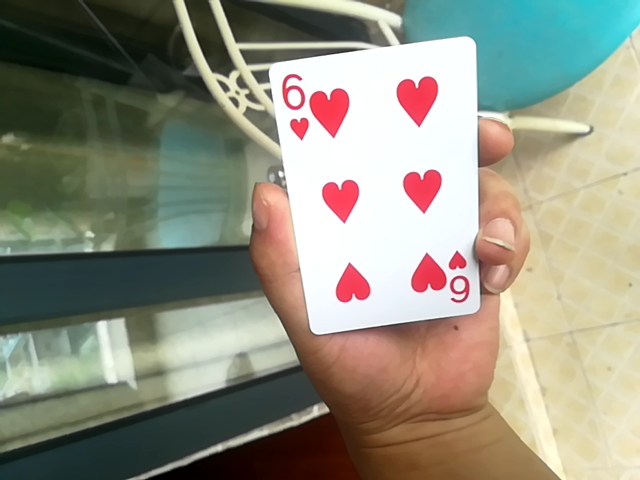hx 6: (264, 36, 481, 330)
